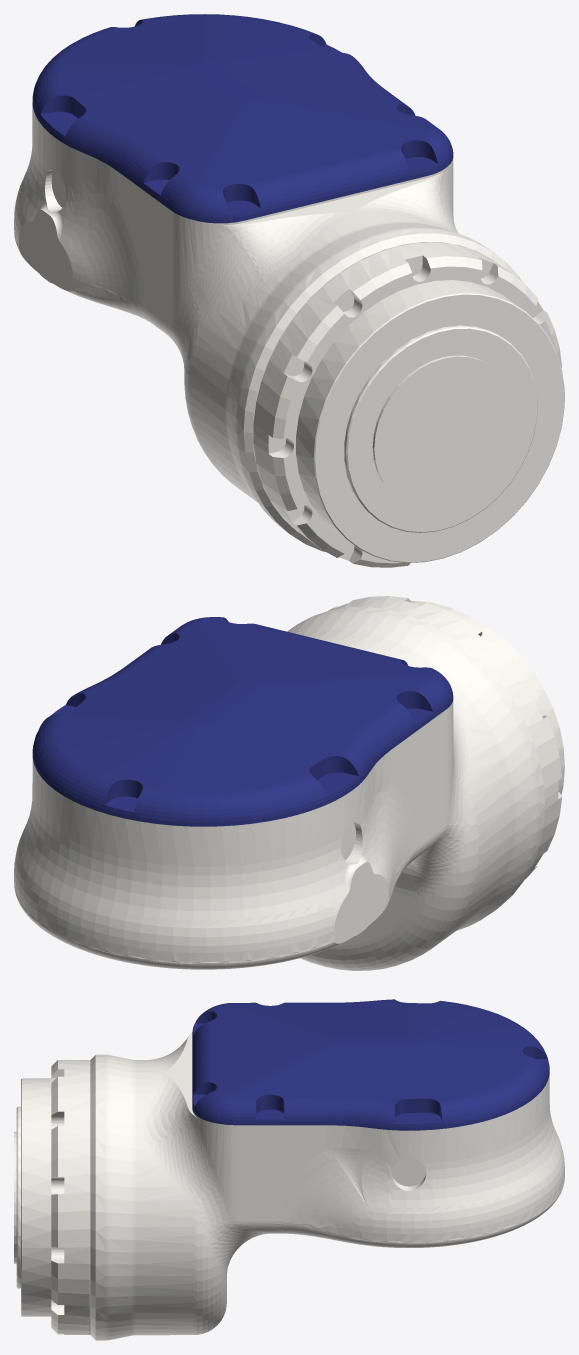
3 views of the same model, one above another, from view 1: azimuth 30°, elevation 25°; view 2: azimuth 150°, elevation 25°; view 3: azimuth 270°, elevation 25° (orthographic). The views are drawn at different scales.
Visible parts, largest first — view 1: link_l2; view 2: link_l2; view 3: link_l2.
Part boxes in pixels (x1,y1,x2,y2): link_l2: [14, 14, 564, 567]; link_l2: [14, 596, 564, 970]; link_l2: [14, 999, 564, 1340].
Size of the model in its own units: 0.141 by 0.2542 by 0.145.
Materials: 1 (1 with a texture image).
